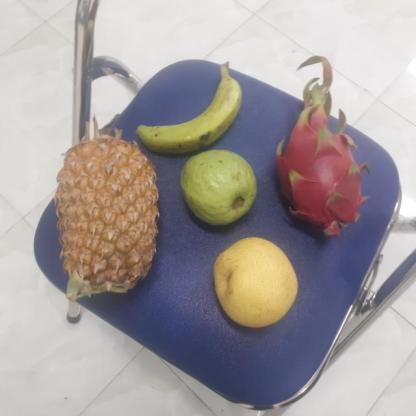banana: (128, 61, 242, 156)
guava: (179, 151, 257, 225)
pear: (209, 238, 300, 328)
pineapple: (46, 144, 159, 292)
pitaya: (272, 113, 366, 238)
